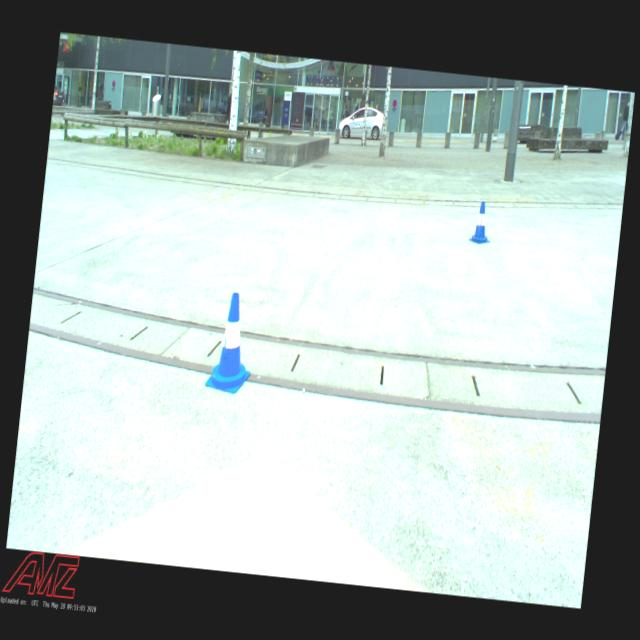blue_cone: (203, 290, 259, 394), (468, 200, 493, 245)
